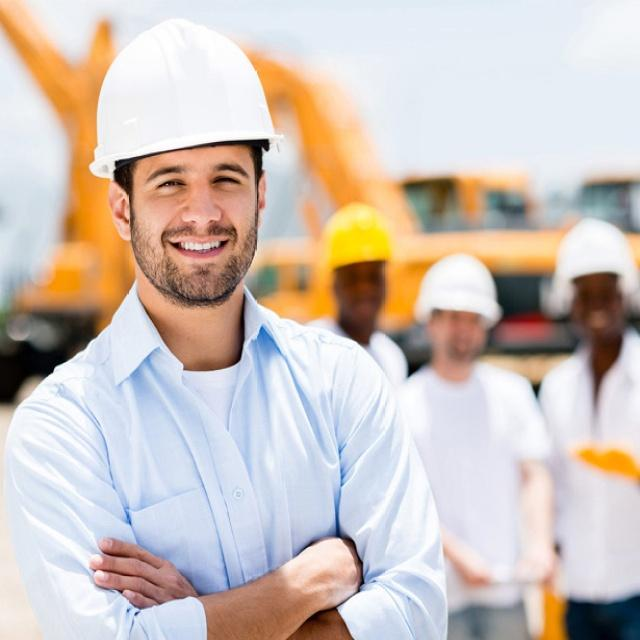helmet: (89, 22, 284, 410), (556, 286, 639, 454), (414, 336, 503, 489), (320, 268, 392, 431)
